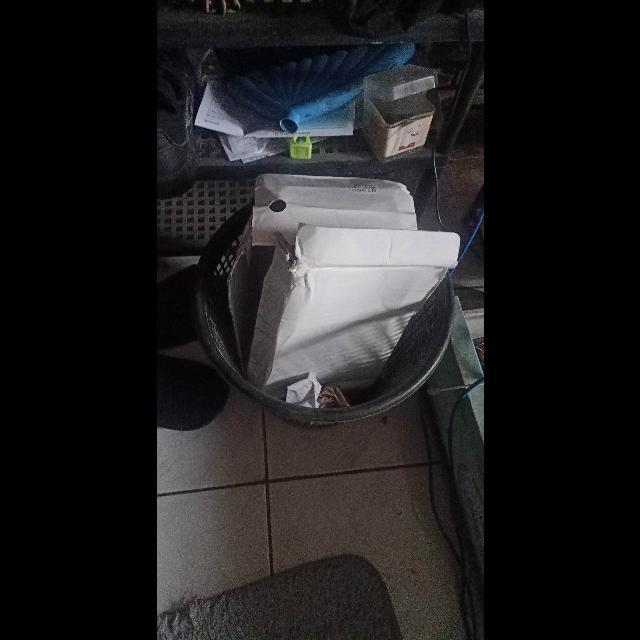paper: (227, 174, 417, 377), (246, 223, 460, 402), (285, 373, 321, 411), (316, 384, 348, 408)
